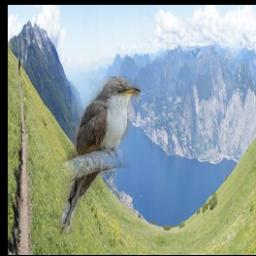Cuckoo: (57, 77, 141, 236)
